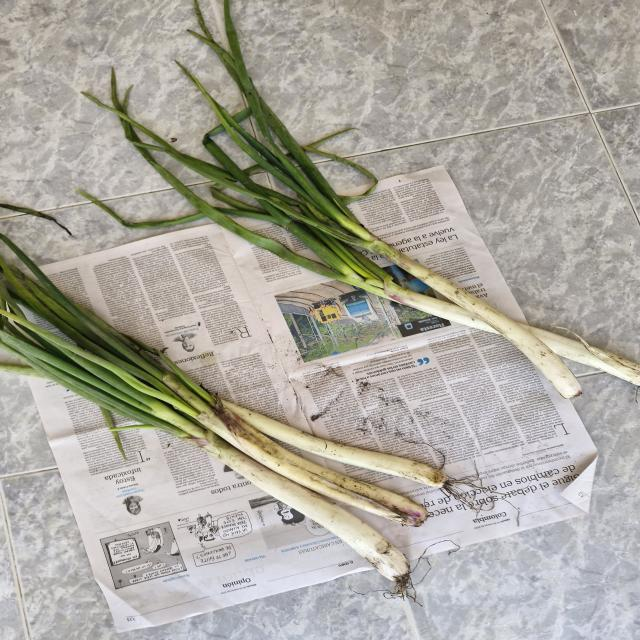green_onion: (0, 210, 439, 582)
